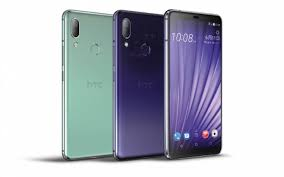htc: (162, 7, 224, 161), (59, 7, 113, 161), (111, 6, 163, 163)
